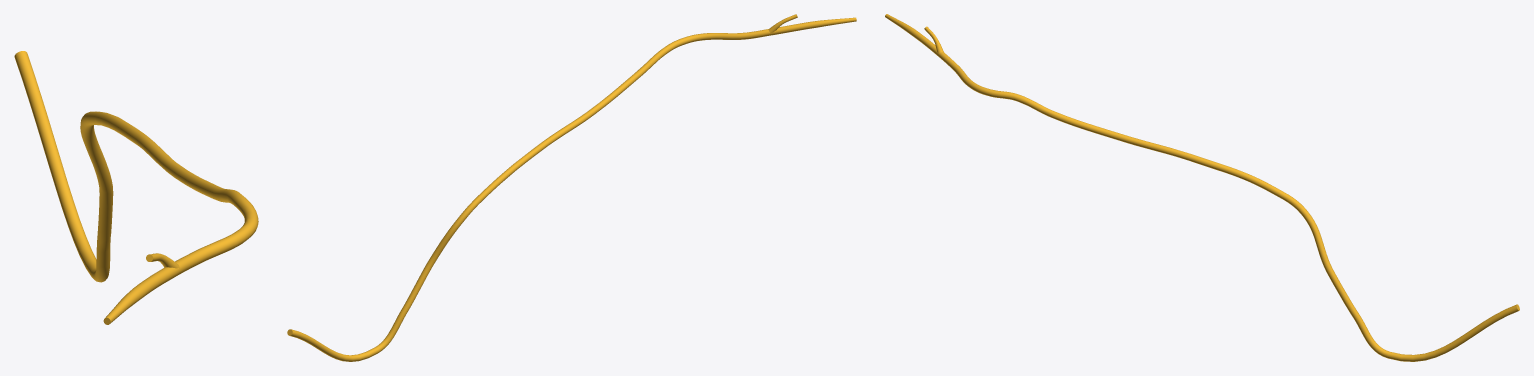
Rendered from nervoso-abducens-nerve-vi-r.glb.
The picture shows the model from 3 angles, left to right: view 1: azimuth 30°, elevation 25°; view 2: azimuth 150°, elevation 25°; view 3: azimuth 270°, elevation 25°; orthographic projection. The views are drawn at different scales.
Parts seen in each view (by area): view 1: Abducens nerve (VI).r; view 2: Abducens nerve (VI).r; view 3: Abducens nerve (VI).r.
Part boxes in pixels (x1,y1,x2,y2): Abducens nerve (VI).r: [14, 51, 258, 324]; Abducens nerve (VI).r: [287, 14, 856, 361]; Abducens nerve (VI).r: [885, 14, 1519, 361].
Size of the model in its own units: 0.0314 by 0.0254 by 0.0627.
